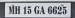character: (14, 5, 21, 15), (33, 5, 40, 15), (7, 5, 14, 14), (38, 6, 45, 15), (26, 5, 32, 15), (61, 6, 67, 15), (47, 5, 52, 14), (52, 5, 57, 14), (57, 5, 62, 14), (22, 5, 26, 14)
